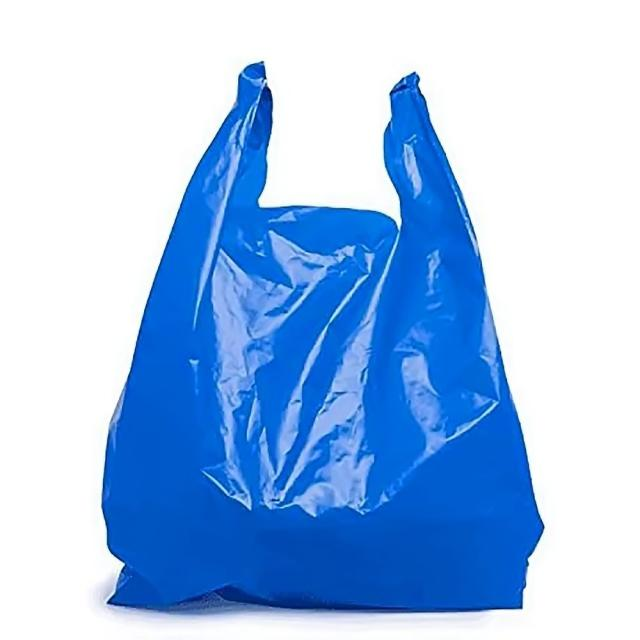plastic_bag: (98, 27, 524, 601)
